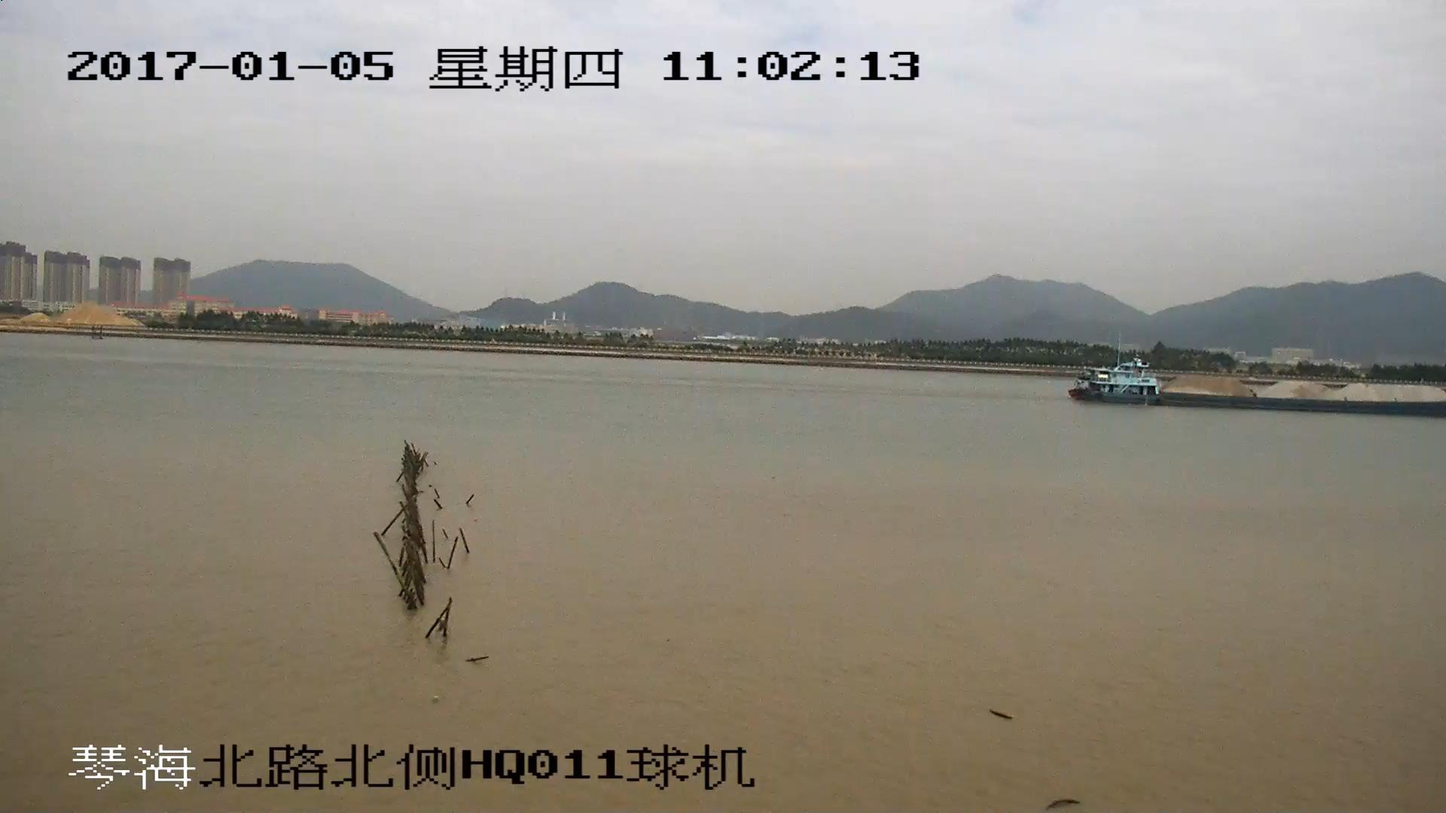ore carrier: (1070, 361, 1445, 412)
